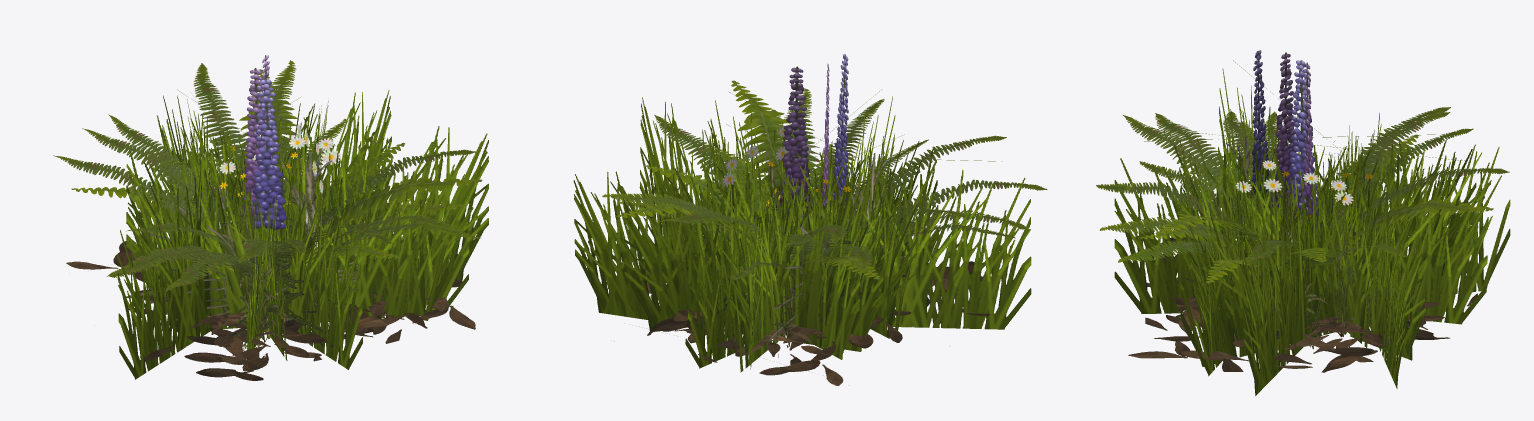
The model's file is undergrowth.glb.
3 renders of one model, left to right at view 1: azimuth 30°, elevation 25°; view 2: azimuth 150°, elevation 25°; view 3: azimuth 270°, elevation 25°, orthographic.
Visible parts, largest first — view 1: lush_a, lush_c, lush_b, fern_b, fern_c, fern_a, flower_lupine_a, litter_a, litter_b, grass_a, flower_lupine_b, flower_daisy (+6 smaller); view 2: lush_a, lush_b, lush_c, fern_b, fern_c, fern_a, flower_lupine_b, litter_a, flower_lupine_a, litter_c, litter_b, stalks_a (+4 smaller); view 3: lush_a, lush_b, lush_c, fern_b, fern_c, fern_a, flower_lupine_a, flower_lupine_b, litter_b, litter_a, flower_daisy, grass_b (+5 smaller).
Part boxes in pixels (x1,y1,x2,y2): lush_a: (117,90,488,379); lush_c: (140,100,469,350); lush_b: (138,90,448,360); fern_b: (71,69,482,280); fern_c: (82,60,481,291); fern_a: (53,63,465,278); flower_lupine_a: (249,79,294,322); litter_a: (66,240,461,370); litter_b: (128,258,475,380); grass_a: (126,176,358,355); flower_lupine_b: (242,55,275,232); flower_daisy: (219,124,340,321); lush_a: (639,89,1031,372); lush_b: (573,110,919,369); lush_c: (623,92,939,338); fern_b: (616,80,1029,283); fern_c: (602,99,1047,289); fern_a: (618,139,1015,280); flower_lupine_b: (775,63,829,214); litter_a: (614,236,990,385); flower_lupine_a: (832,54,848,206); litter_c: (639,309,883,364); litter_b: (647,240,992,360); stalks_a: (760,142,891,302); lush_a: (1114,60,1476,395); lush_b: (1168,125,1489,388); lush_c: (1179,116,1510,376); fern_b: (1100,111,1493,274); fern_c: (1096,107,1476,285); fern_a: (1139,112,1509,286); flower_lupine_a: (1251,50,1318,236); flower_lupine_b: (1271,52,1314,222); litter_b: (1128,237,1449,368); litter_a: (1161,254,1477,372); flower_daisy: (1235,160,1353,314); grass_b: (1186,191,1415,347).
Bounding box in the file's own units: 1.21 × 0.78 × 1.16.
1 material, 1 textured.
